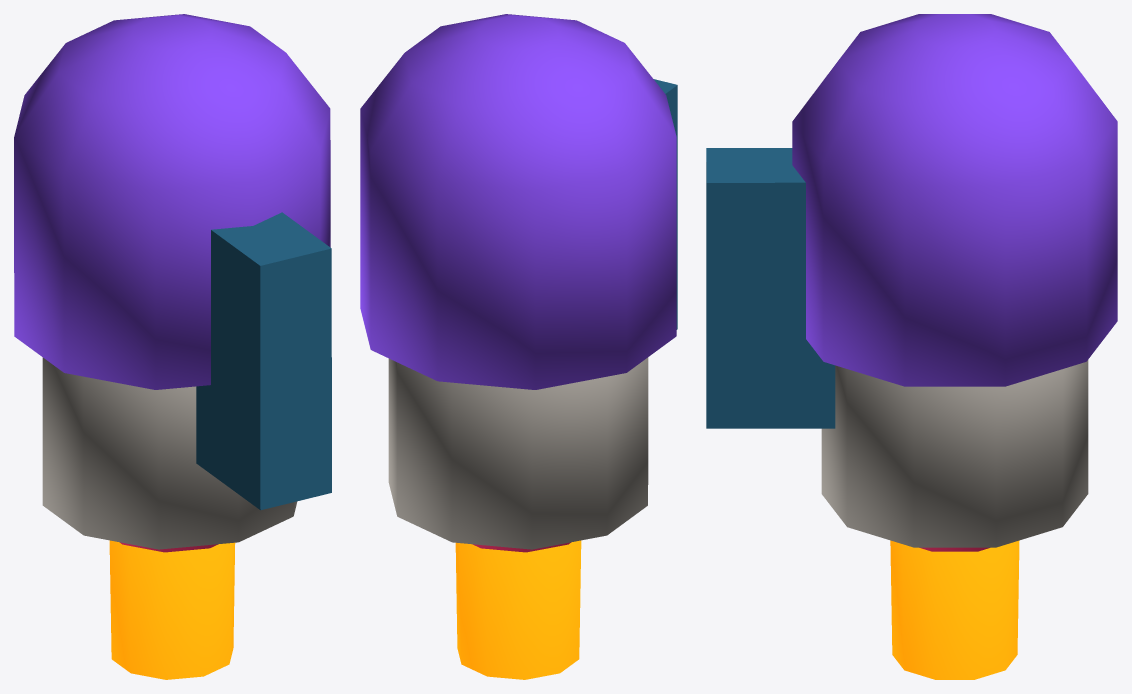
The model's file is directional.glb.
3 renders of one model, left to right at view 1: azimuth 30°, elevation 25°; view 2: azimuth 150°, elevation 25°; view 3: azimuth 270°, elevation 25°, orthographic.
Visible parts, largest first — view 1: Cylinder.026, boost-part.006; view 2: Cylinder.026, boost-part.006; view 3: Cylinder.026, boost-part.006.
Boxes of the visible parts, <box> form: Cylinder.026: <box>14,14,331,552</box>; boost-part.006: <box>109,540,235,679</box>; Cylinder.026: <box>360,14,677,552</box>; boost-part.006: <box>455,540,581,679</box>; Cylinder.026: <box>706,14,1117,551</box>; boost-part.006: <box>890,540,1019,679</box>.
Bounding box in the file's own units: 0.1072 × 0.2387 × 0.1426.
